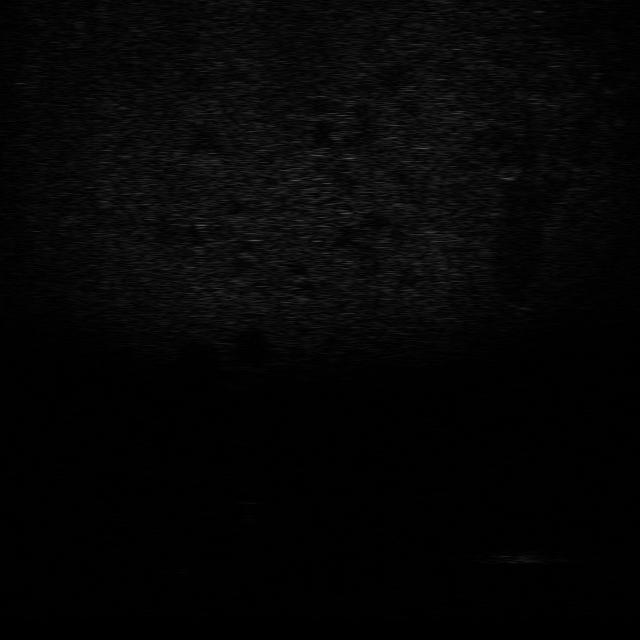ball: (226, 480, 272, 508)
metal bucket: (479, 544, 561, 566)
tyre: (166, 552, 222, 580)
